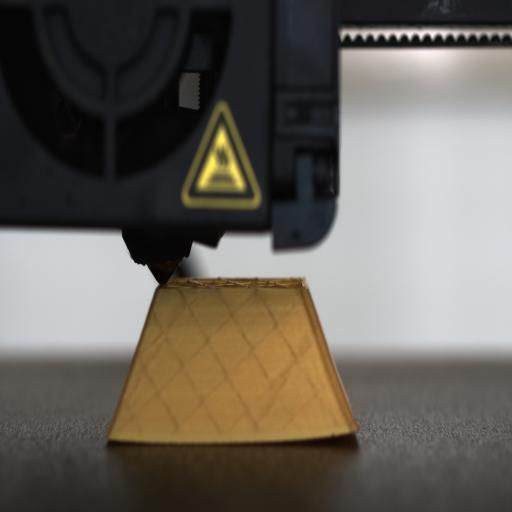warp: (304, 413, 368, 448), (101, 428, 131, 448)
